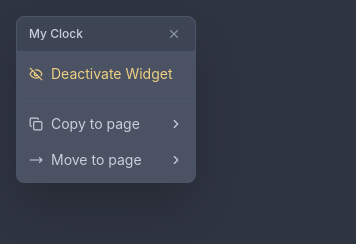
Test case: WidgetContextMenu › shows other pages in move submenu on hover
Hover over the text "Move to page": [106, 160] box [29,151,183,168]
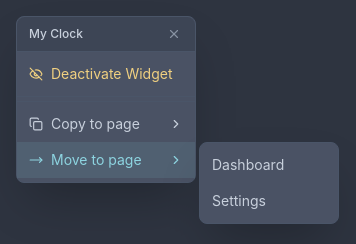
Check: the button "Dashboard" is shown, box [200,147,338,183]
Check: the button "Settings" is shown, box [200,183,338,219]
